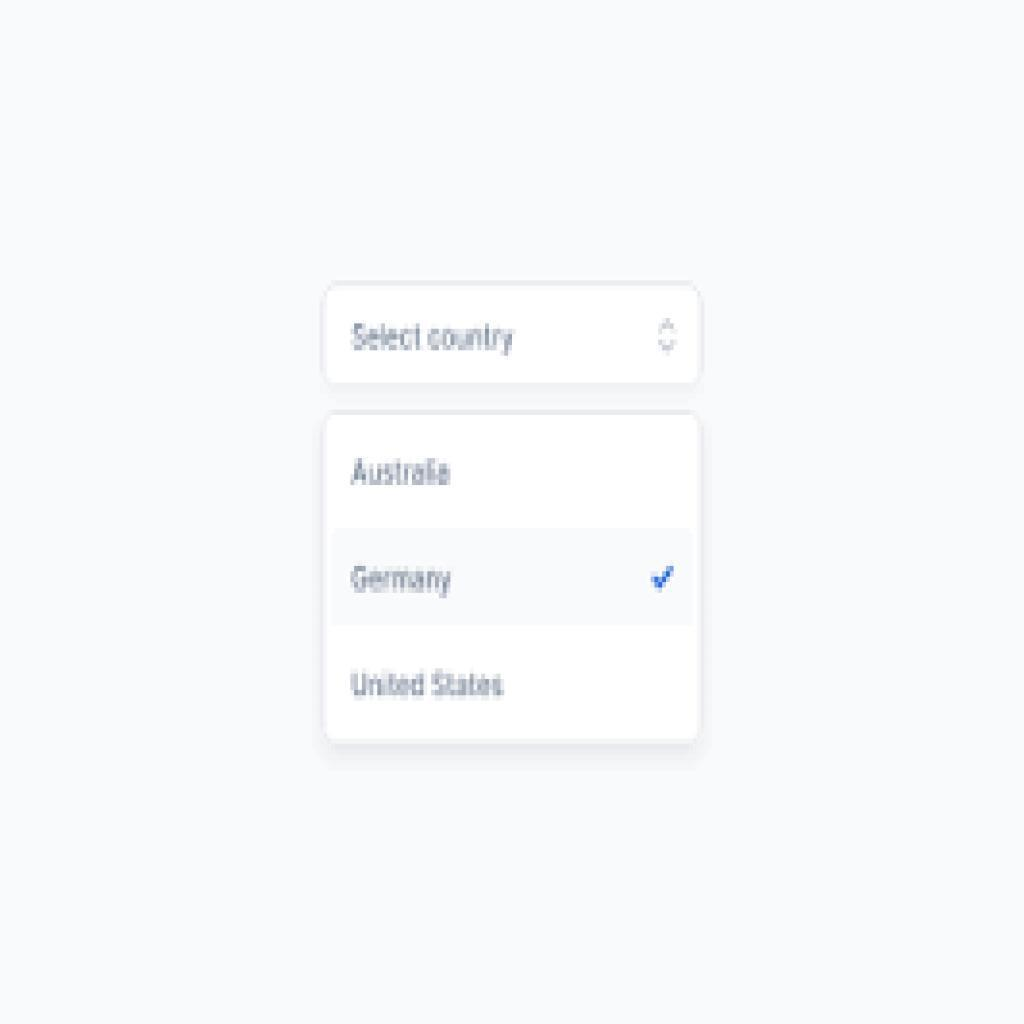dropdown: (321, 281, 705, 385)
